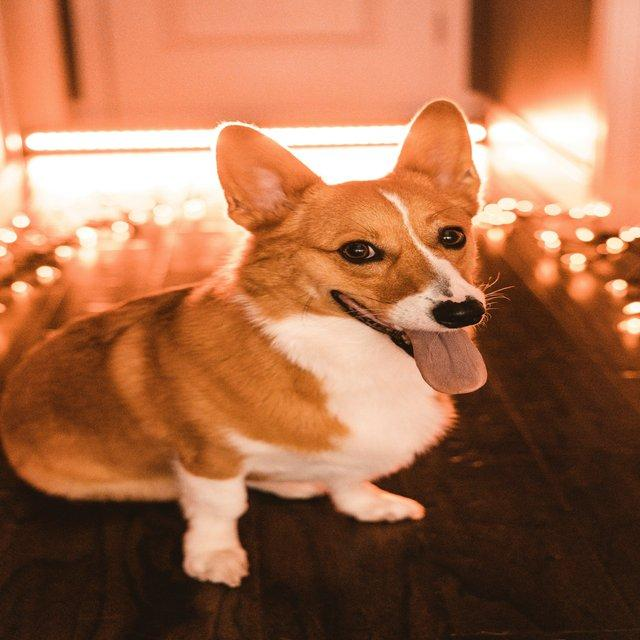corgi: (0, 97, 505, 588)
